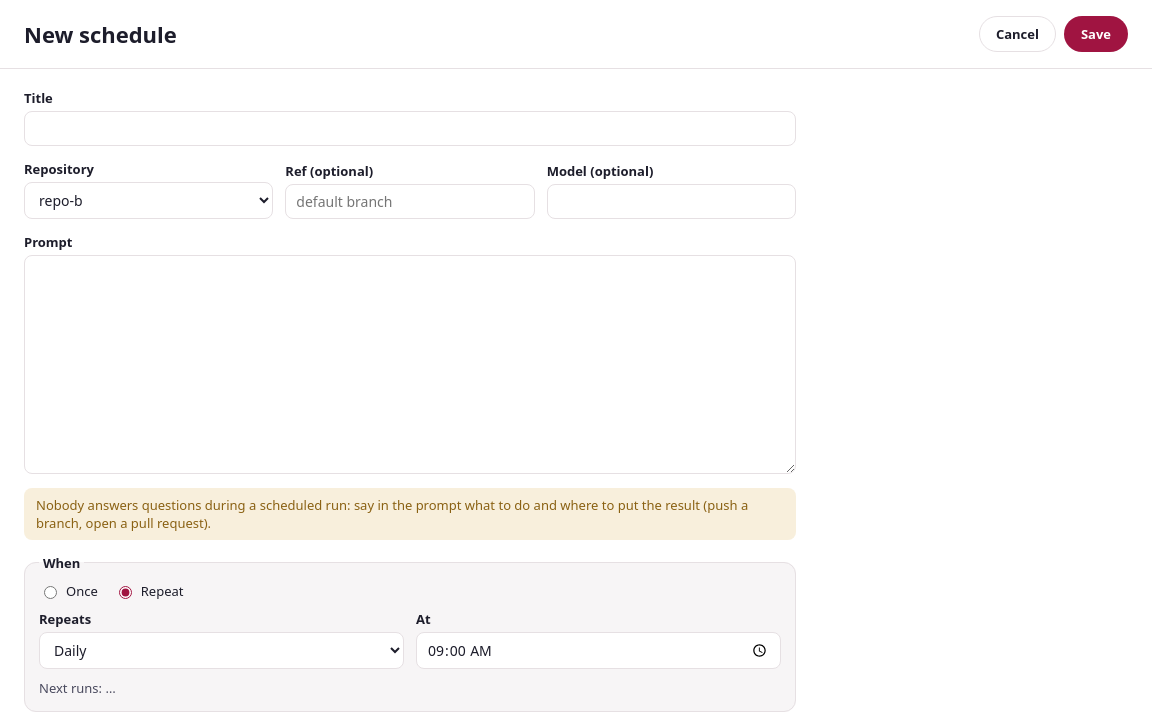
Scenario: ScheduleForm › shows the preview error of a bad cron
The width and height of the screenshot is (1152, 720).
Select "Custom (cron)" in the dropdown labelled "Repeats": (222, 650) [39, 632, 404, 669]
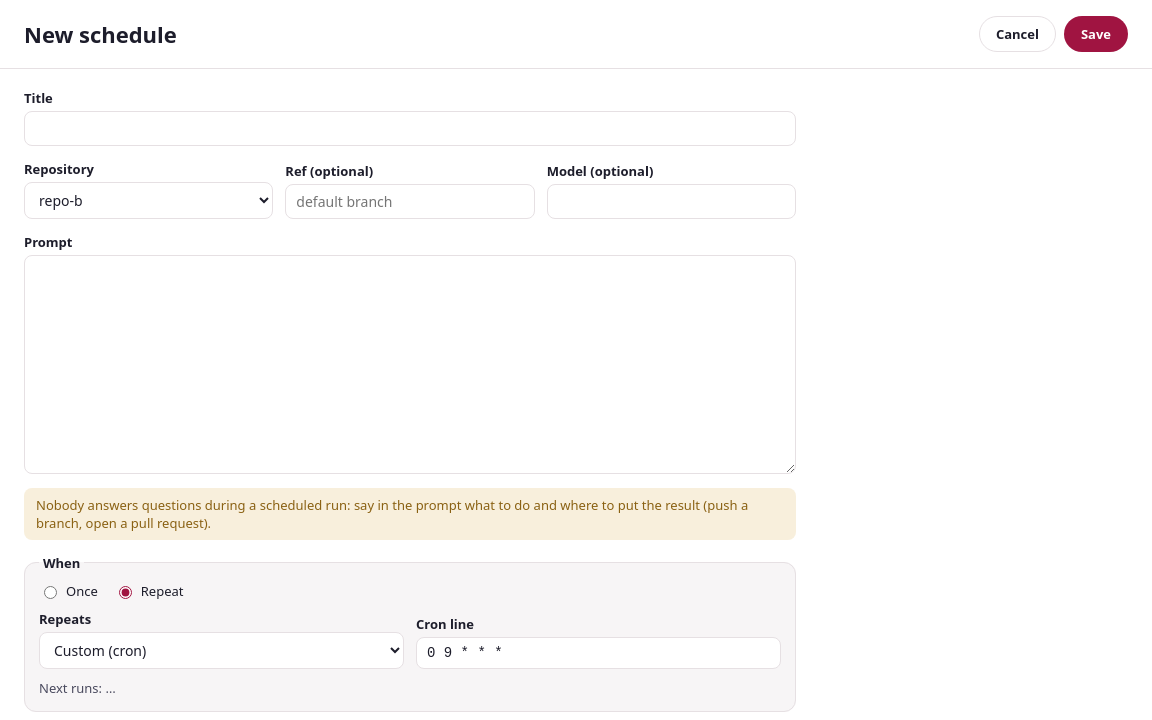
Replace the text in the field labelled "Cron line" with "nope": (598, 653) [416, 637, 781, 669]
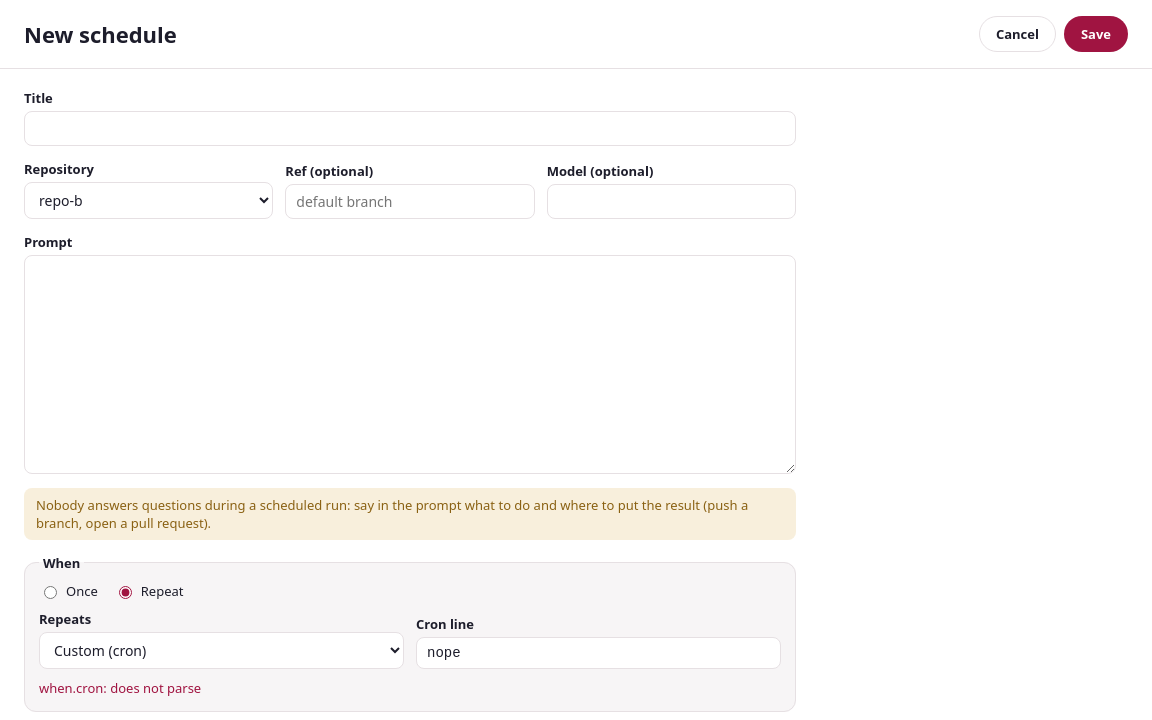
Check: the text "when.cron: does not parse" is shown, box [39, 679, 201, 697]
